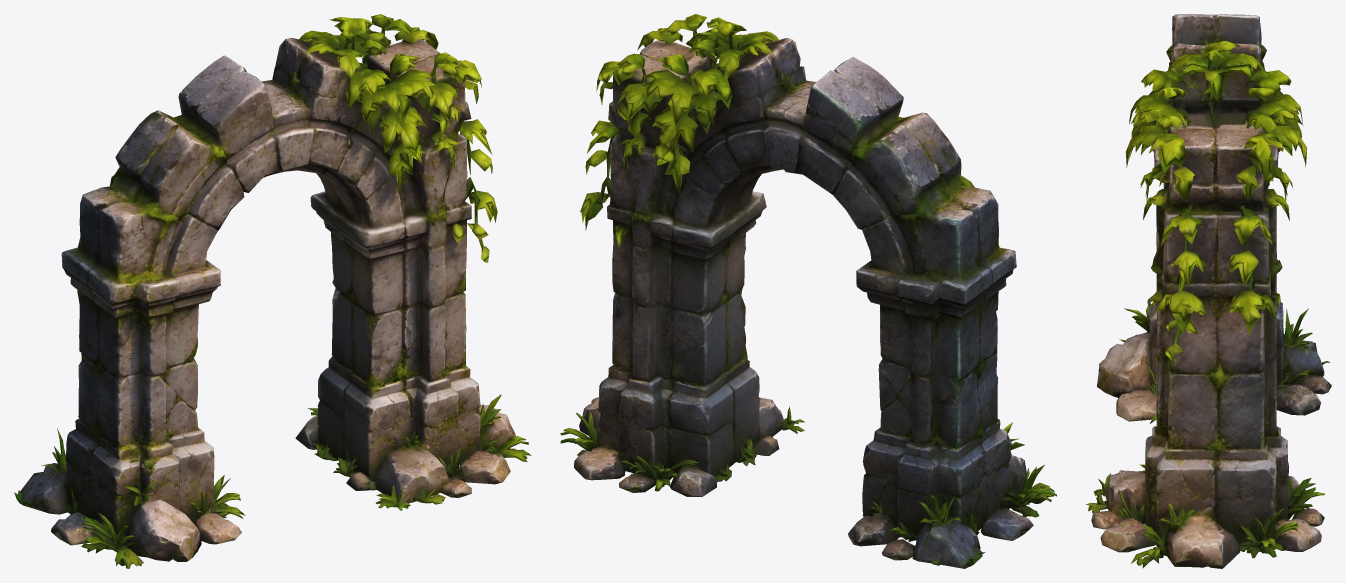
Rendered from gen_arch_broken.glb.
3 views of the same model, side by side, from view 1: azimuth 30°, elevation 25°; view 2: azimuth 150°, elevation 25°; view 3: azimuth 270°, elevation 25° (orthographic). The views are drawn at different scales.
Parts seen in each view (by area): view 1: tripo_node_f8c6982b-3a8c-4d6d-a290-dc755b7831cf; view 2: tripo_node_f8c6982b-3a8c-4d6d-a290-dc755b7831cf; view 3: tripo_node_f8c6982b-3a8c-4d6d-a290-dc755b7831cf.
Boxes of the visible parts, box(x1,y1,x2,y2) form: tripo_node_f8c6982b-3a8c-4d6d-a290-dc755b7831cf: box(14, 14, 531, 568); tripo_node_f8c6982b-3a8c-4d6d-a290-dc755b7831cf: box(560, 14, 1056, 568); tripo_node_f8c6982b-3a8c-4d6d-a290-dc755b7831cf: box(1085, 14, 1331, 568).
Bounding box in the file's own units: 0.9794 × 0.9429 × 0.4644.
1 material, 1 textured.
